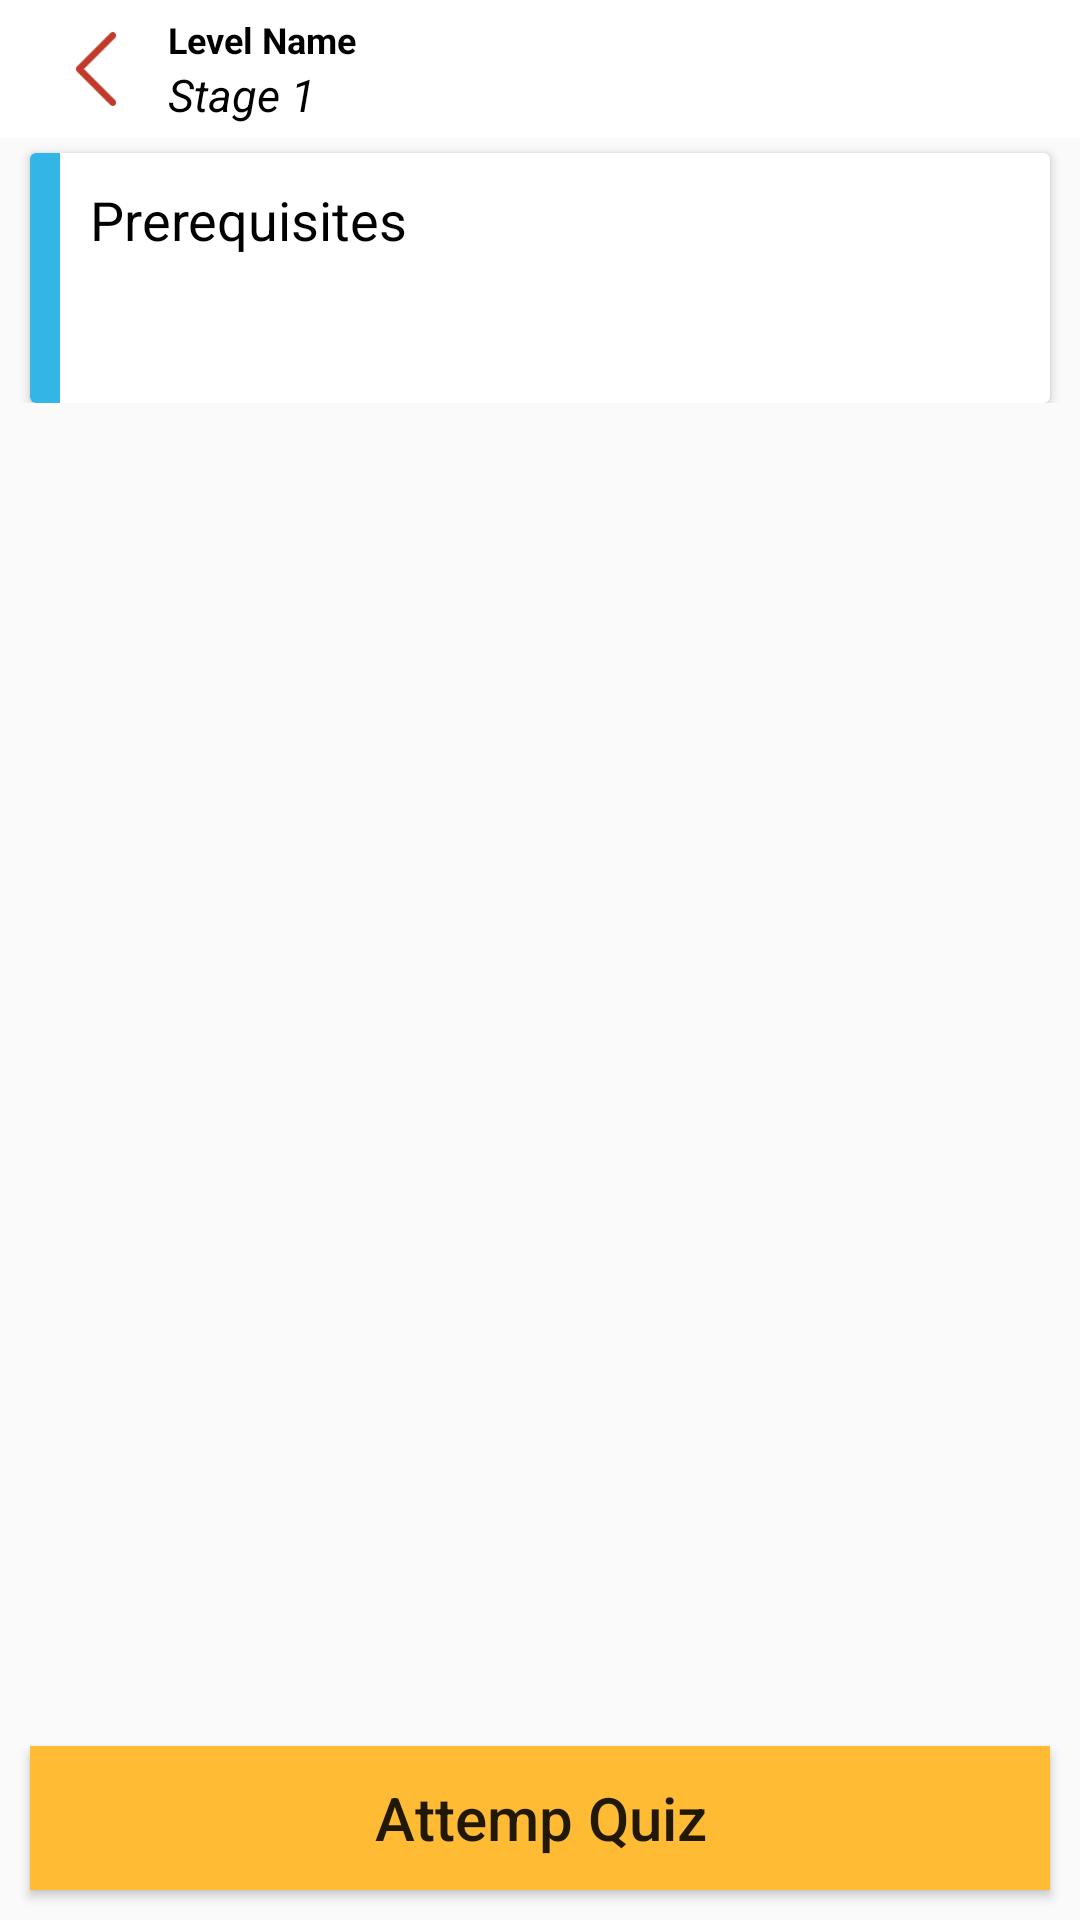

Point at icon controls on the screen. Image size 1080x1920, points as point (x, y).
back: point (96, 69)
